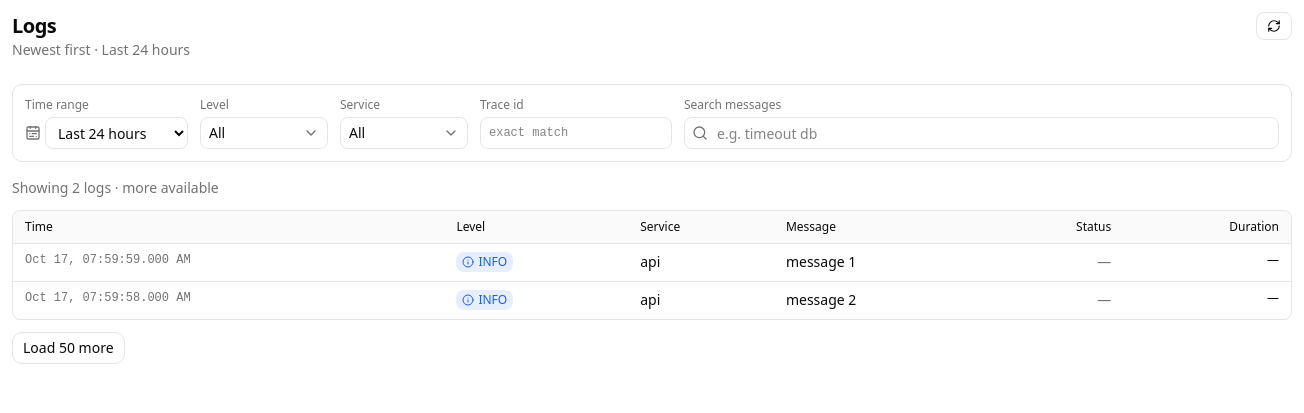
Scenario: LogsExplorer › loads more with the cursor and the same time window, appending rows
Click the button "Load 50 more" at (68, 348), box [12,332,124,364]
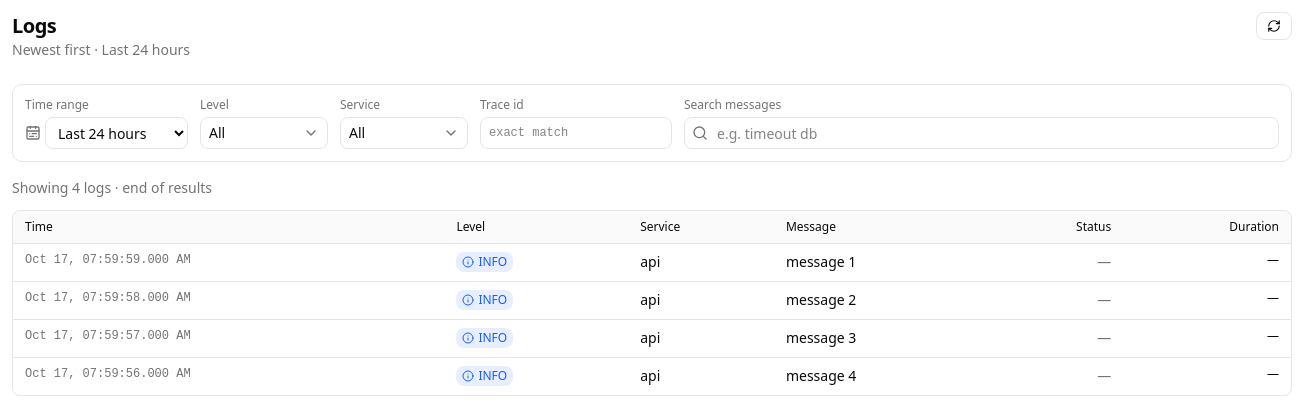
Expected: the number of rows with test id "log-row" is 4, [13,244,1291,282]; [13,282,1291,320]; [13,320,1291,358]; [13,358,1291,395]
Expected: the button "Load 50 more" is gone
Expected: the text "Showing 4 logs · end of results" is shown, [12,178,212,197]
